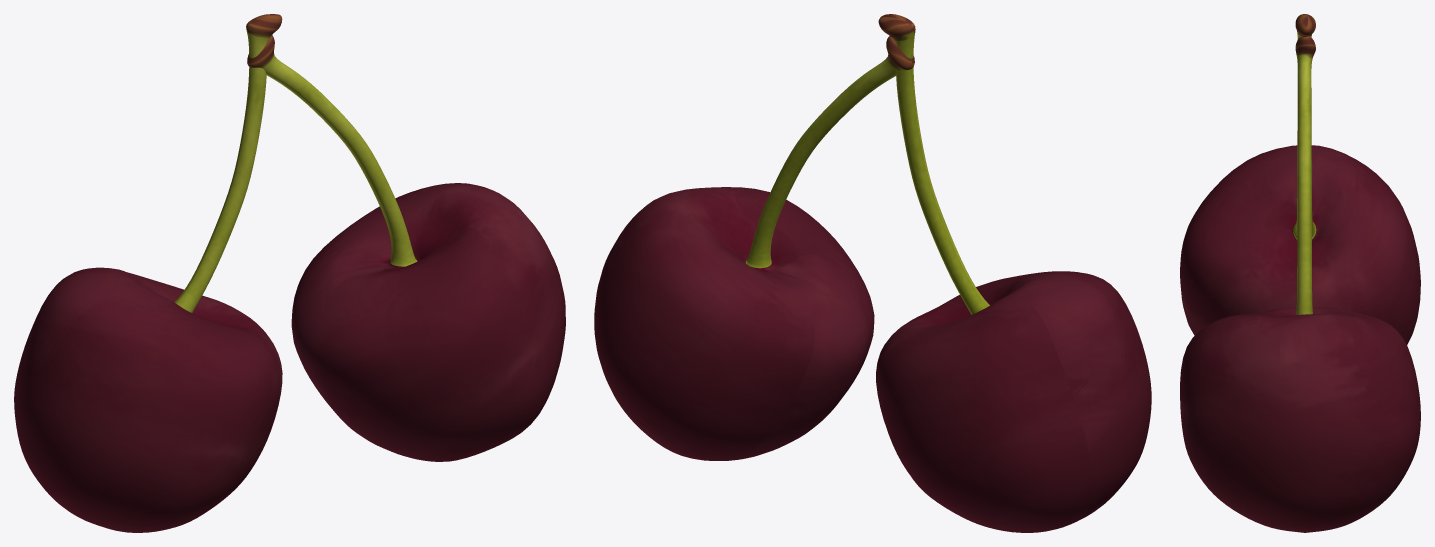
Rendered from Cherry.FBX.
3 views of the same model, side by side, from view 1: azimuth 30°, elevation 25°; view 2: azimuth 150°, elevation 25°; view 3: azimuth 270°, elevation 25° (orthographic). The views are drawn at different scales.
Visible parts, largest first — view 1: 10174_Cherry_v01; view 2: 10174_Cherry_v01; view 3: 10174_Cherry_v01.
Boxes of the visible parts, x1,y1,x2,y2 form: 10174_Cherry_v01: (14, 14, 565, 532); 10174_Cherry_v01: (594, 14, 1151, 532); 10174_Cherry_v01: (1180, 14, 1420, 532).
Bounding box in the file's own units: 11.68 × 10.15 × 5.16.
Materials: 1 (1 with a texture image).
